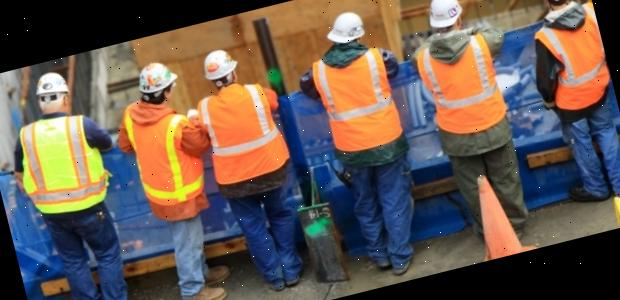helmet: (321, 8, 369, 49), (134, 57, 180, 96), (198, 45, 242, 84), (32, 66, 70, 102), (423, 0, 466, 31)
wear: (12, 108, 113, 224), (309, 44, 408, 161), (414, 29, 514, 142), (196, 76, 290, 190), (121, 96, 210, 210), (528, 5, 616, 117)
